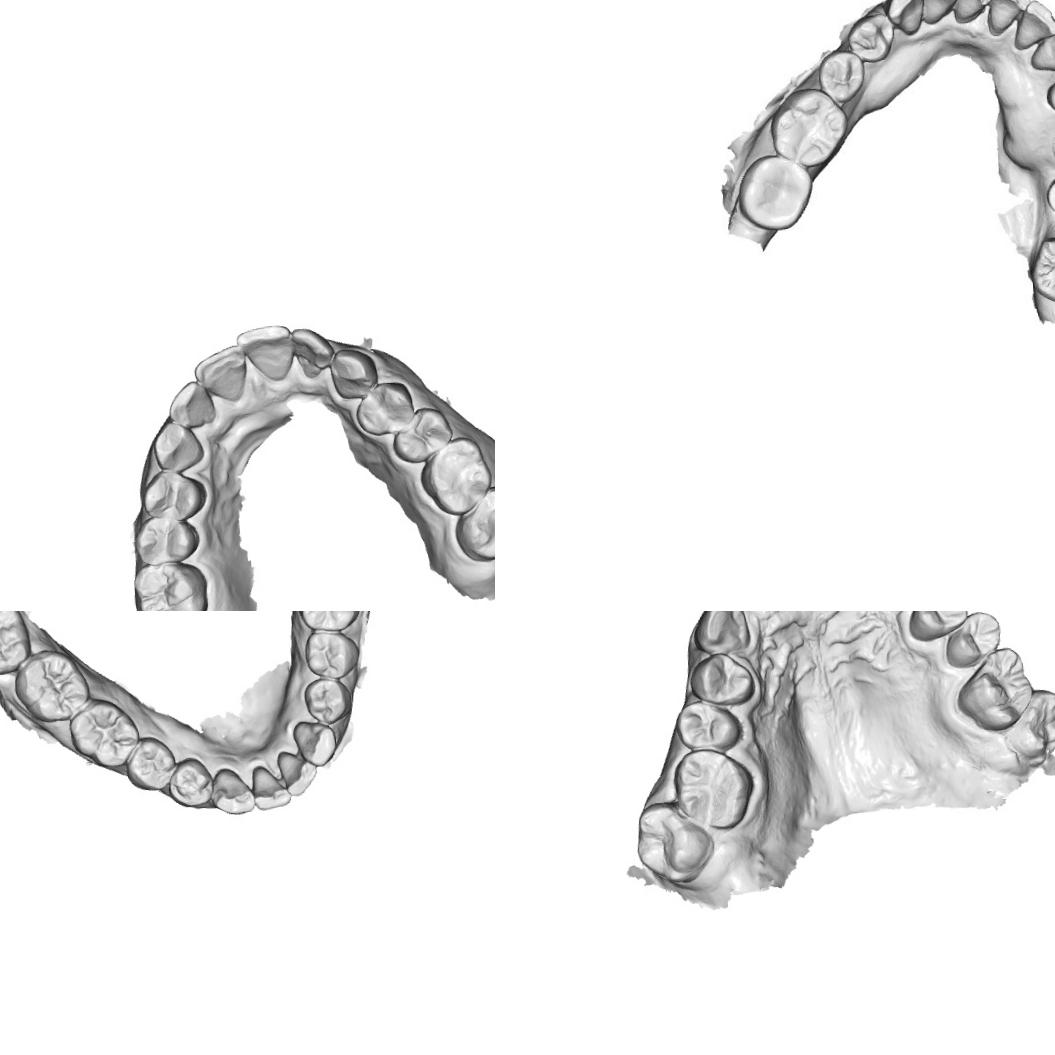canine: (150, 417, 206, 476), (327, 345, 381, 402), (689, 611, 750, 658), (883, 0, 926, 39), (1027, 27, 1055, 76)
implant: (1042, 170, 1055, 218)
incisor: (232, 321, 295, 385), (190, 342, 250, 405), (285, 323, 338, 381), (163, 376, 218, 430), (208, 764, 256, 816), (290, 718, 339, 768), (249, 762, 292, 812), (276, 748, 318, 797), (1012, 1, 1052, 47), (985, 0, 1026, 32), (918, 0, 958, 22), (950, 0, 987, 22)
molar: (668, 744, 756, 834), (952, 642, 1038, 734), (766, 82, 852, 172), (632, 797, 717, 888), (416, 433, 495, 518), (10, 646, 92, 725), (738, 150, 812, 236), (66, 695, 141, 769), (1002, 685, 1055, 769), (128, 559, 212, 611), (449, 481, 495, 564), (0, 611, 32, 677), (1031, 234, 1055, 303), (292, 611, 363, 634)
premolar: (685, 650, 757, 710), (672, 696, 742, 756), (136, 466, 207, 525), (389, 403, 456, 465), (351, 378, 417, 438), (940, 611, 1004, 670), (130, 512, 200, 565), (123, 734, 177, 792), (302, 628, 361, 680), (301, 675, 353, 725), (166, 755, 214, 807), (818, 47, 864, 101), (904, 611, 972, 644), (848, 14, 892, 57)
